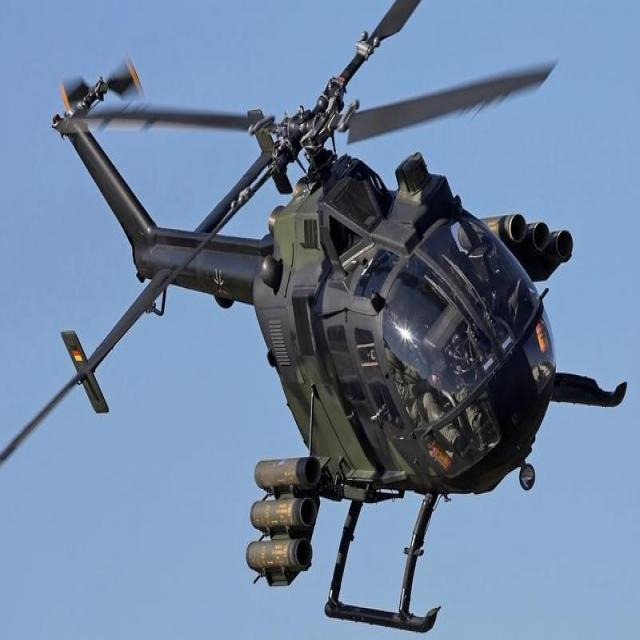MIL_HELO: (8, 0, 640, 639)
